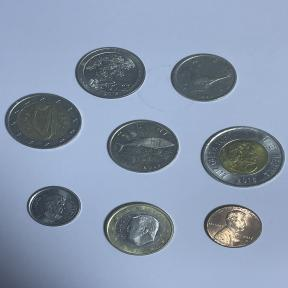coin: (196, 120, 288, 194), (99, 200, 183, 262), (104, 114, 184, 178), (2, 90, 84, 152), (72, 44, 152, 102), (200, 201, 268, 253), (24, 183, 86, 231)
